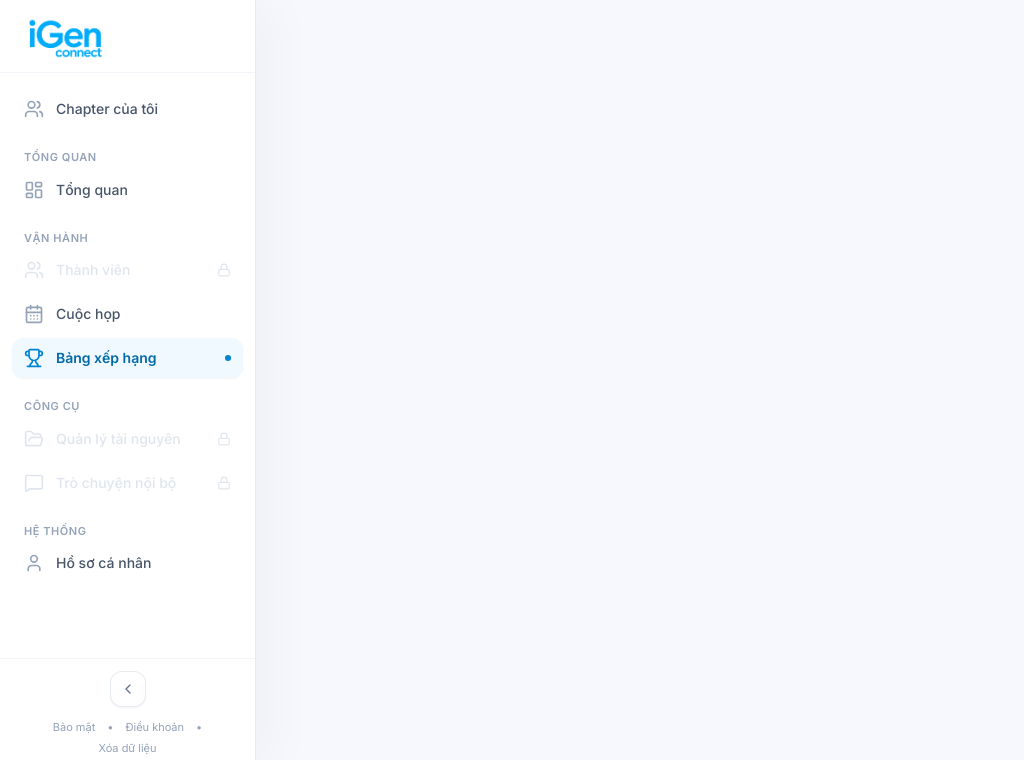
Test: lets a member with meeting read access open the rankings from the menu
The image size is (1024, 760).
Click the button "Bảng xếp hạng". click: (128, 358)
box: [12,338,243,378]
(page scrolled)
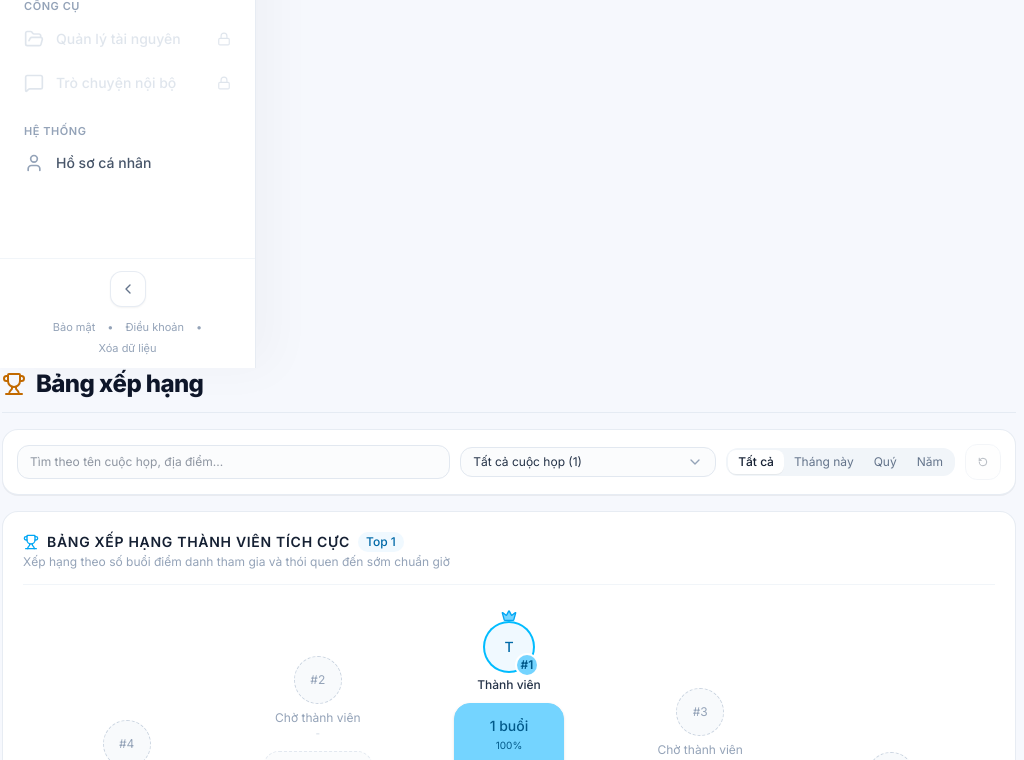
Expected: the heading "Bảng xếp hạng" is shown, [36,368,203,400]
